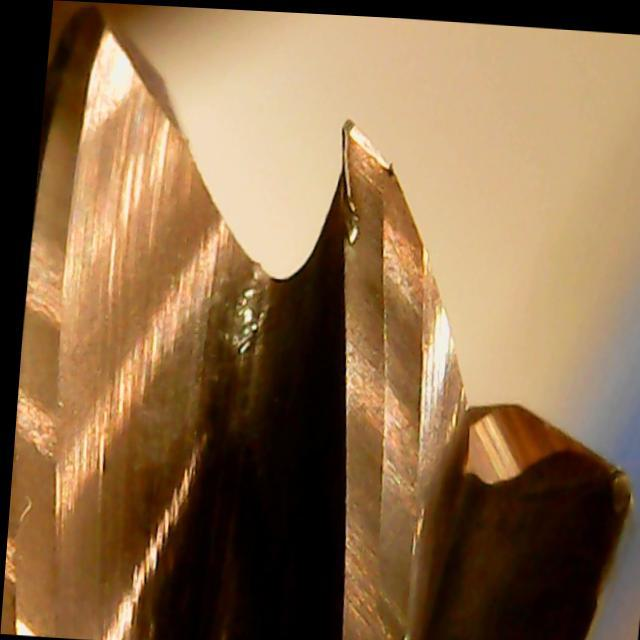Tool-wear-class-1: (293, 113, 421, 389)
